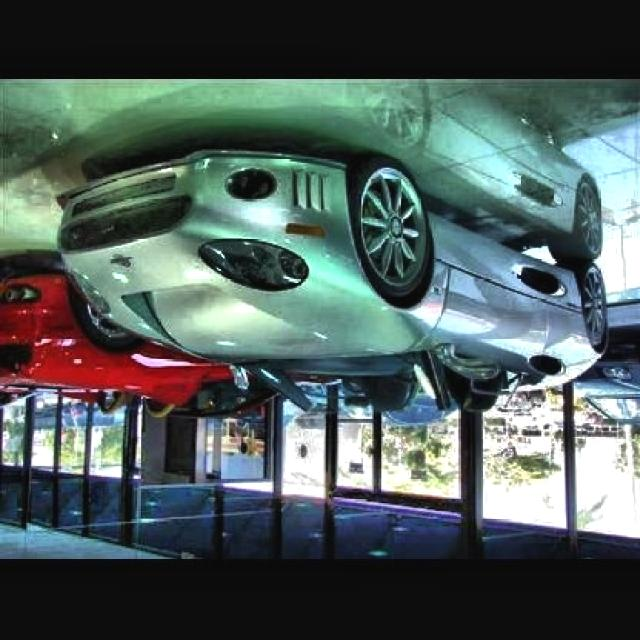red: (4, 288, 216, 441)
